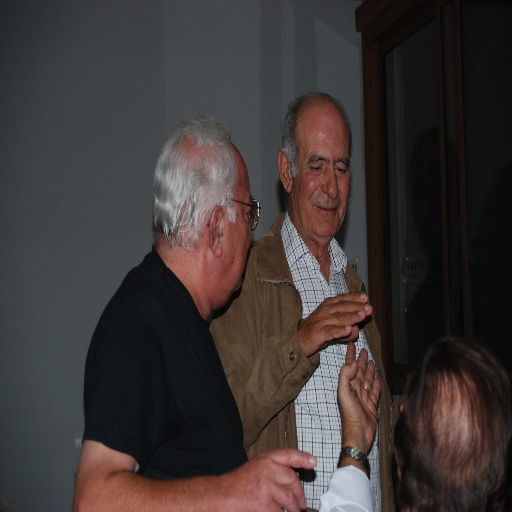hand: (222, 443, 318, 511), (336, 341, 382, 456), (296, 289, 373, 355)
